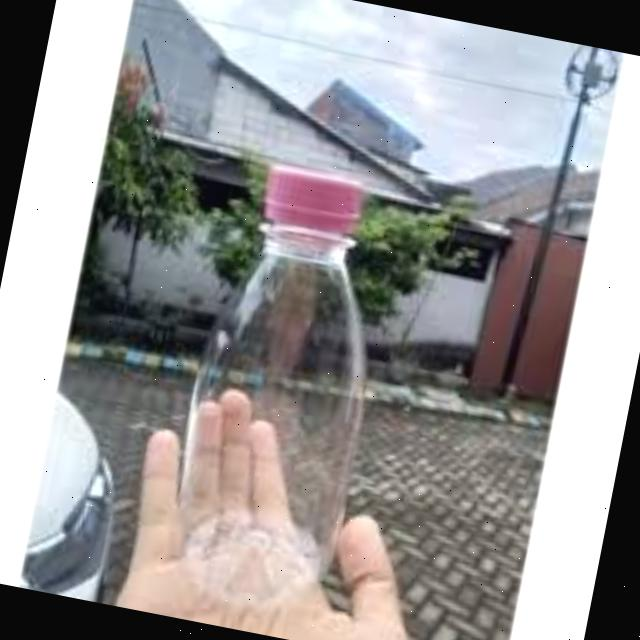trash: (146, 160, 410, 627)
